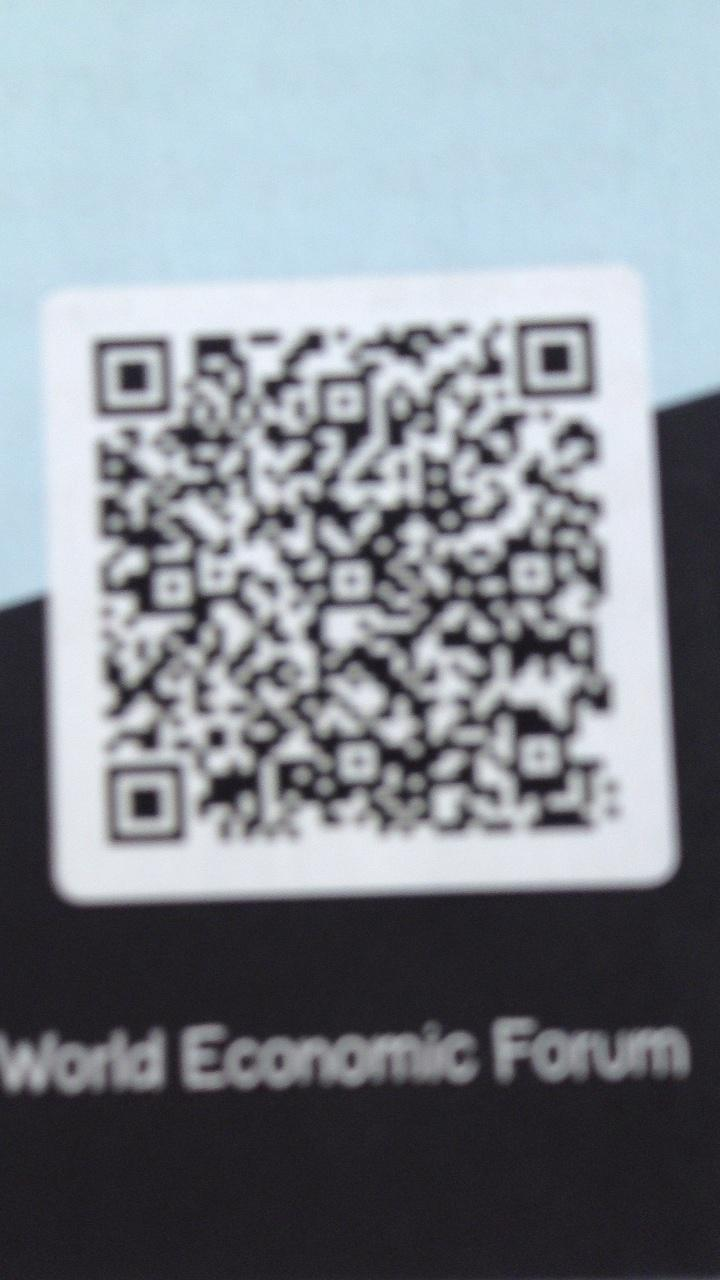Finder pattern: (84, 331, 184, 422), (506, 315, 606, 406), (98, 757, 192, 853)
